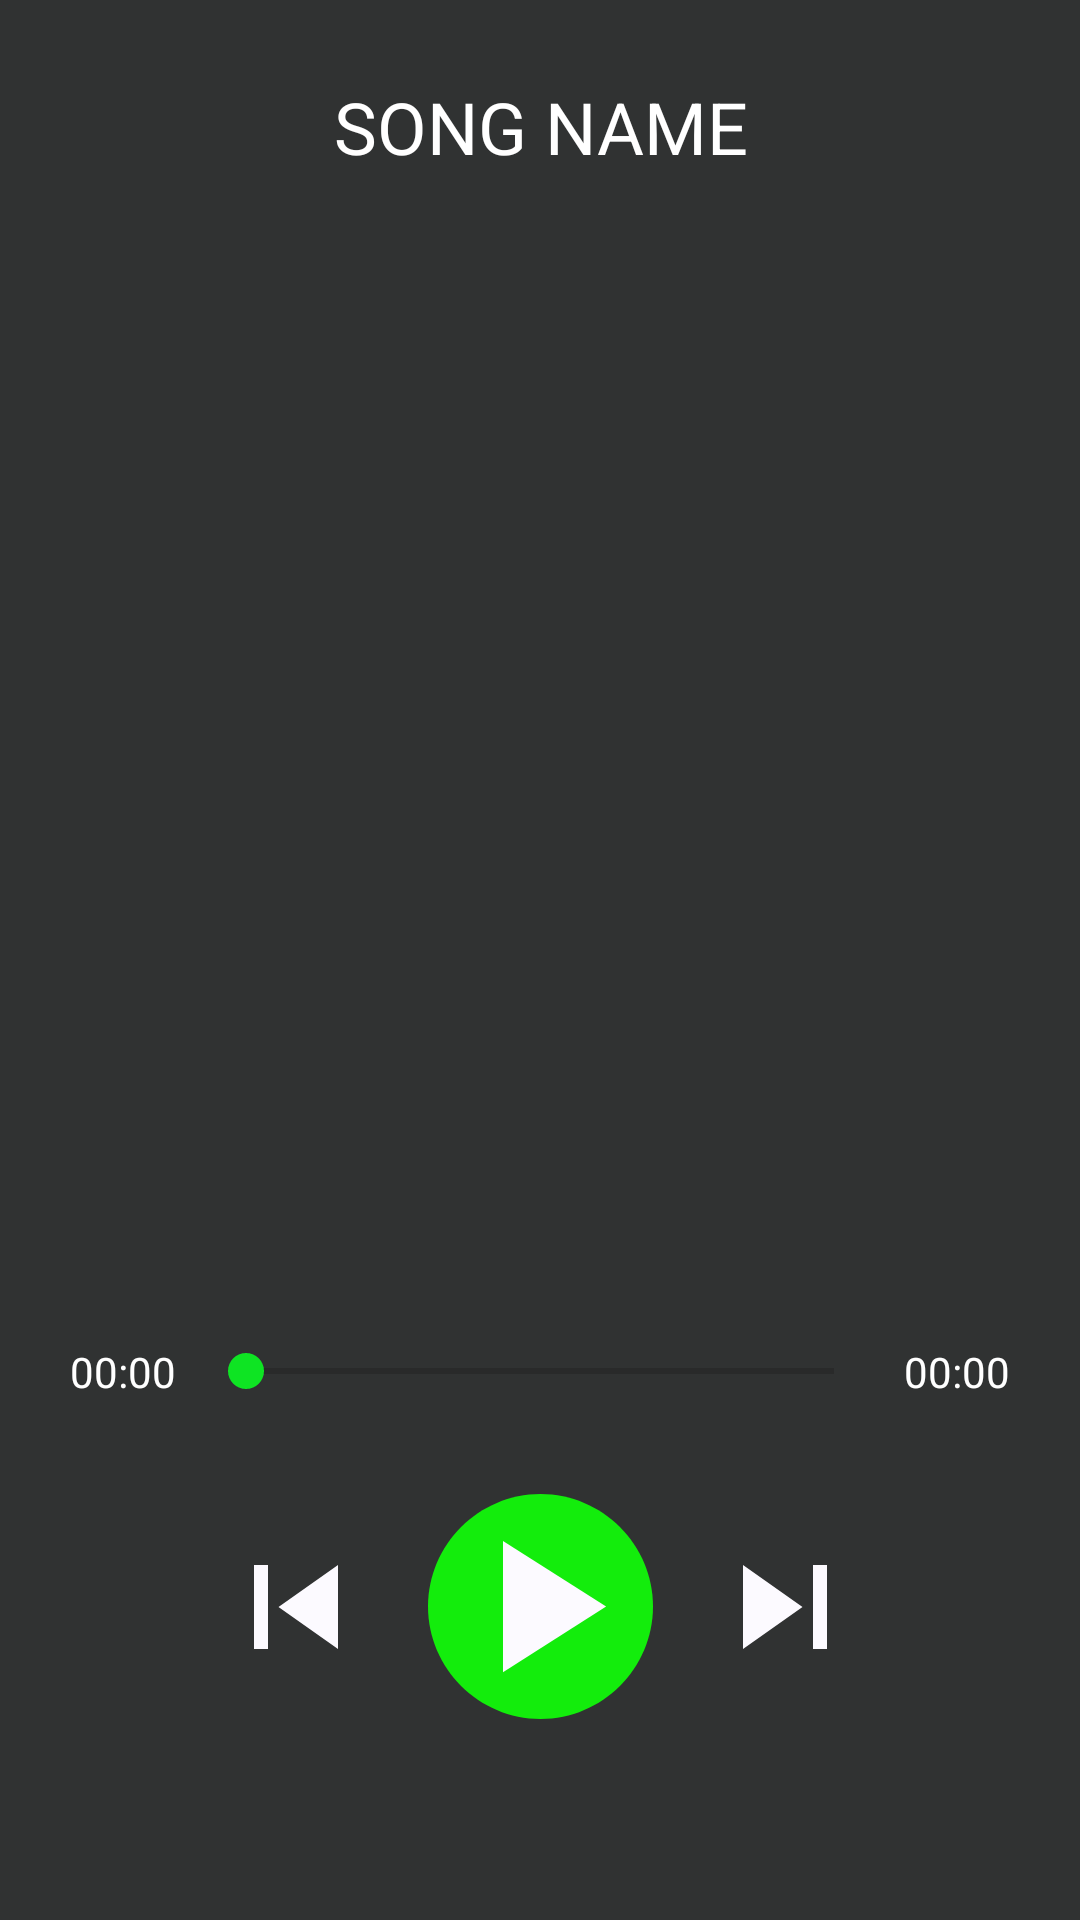

Point at icon controls on the screen. Image size 1080 x 1920, points as (x,y).
play: (540,1606)
skip: (785,1607)
skip previous: (296,1607)
